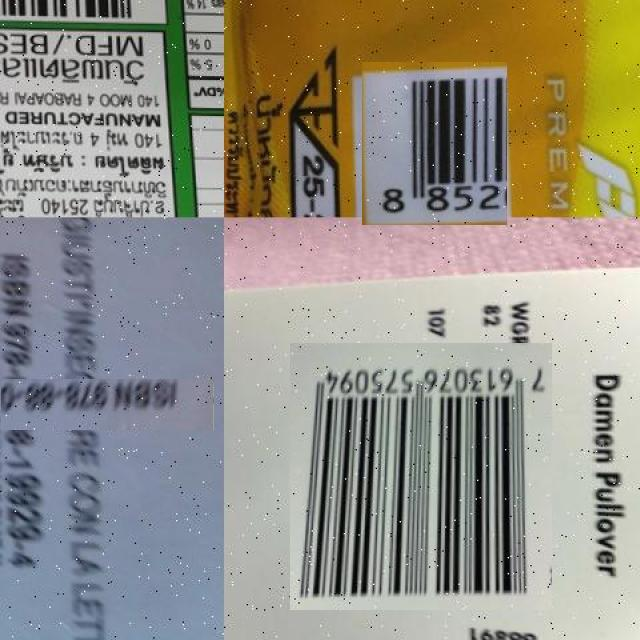Barcode: (288, 343, 553, 609), (0, 297, 133, 511), (357, 67, 512, 221)
